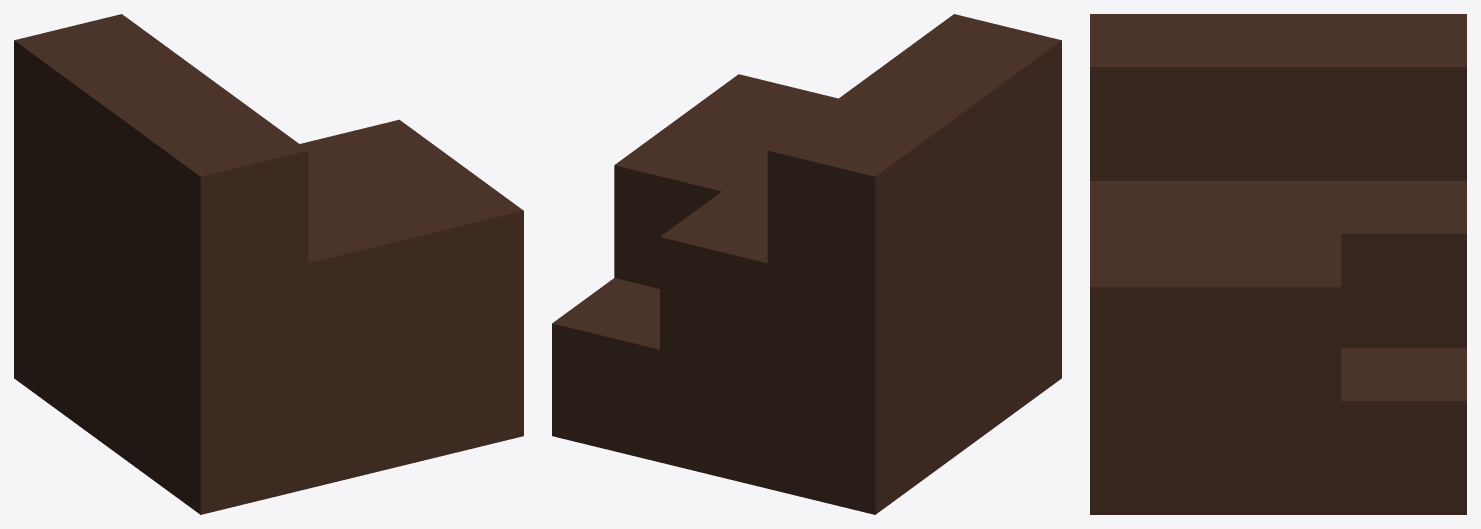
File: beaver__leg_fr.glb
3 renders of one model, left to right at view 1: azimuth 30°, elevation 25°; view 2: azimuth 150°, elevation 25°; view 3: azimuth 270°, elevation 25°, orthographic.
Visible parts, largest first — view 1: beaver__leg_fr; view 2: beaver__leg_fr; view 3: beaver__leg_fr.
Part boxes in pixels (x1,y1,x2,y2): beaver__leg_fr: (14,14,523,514); beaver__leg_fr: (552,14,1061,514); beaver__leg_fr: (1090,14,1466,514).
Bounding box in the file's own units: 0.3 × 0.3 × 0.3.
Materials: 1 (1 with a texture image).
